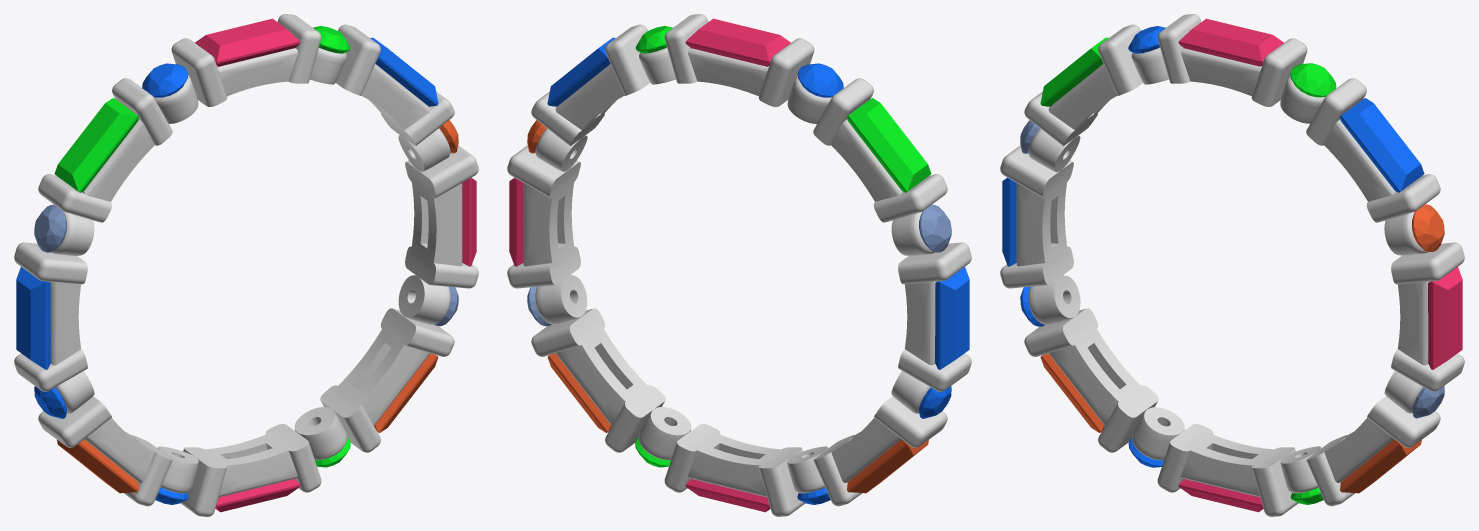
Rendered from AdamSpt_blender.glb.
3 views of the same model, side by side, from view 1: azimuth 30°, elevation 25°; view 2: azimuth 150°, elevation 25°; view 3: azimuth 330°, elevation 25° (orthographic).
Visible parts, largest first — view 1: Adam PT for 3d model, Adam ruby for 3d model, Adam emerald for 3d model.001, Adam sapphire for 3d model.001, Adam hessonite garnet for 3d model.002, Adam sapphire for 3d model, Adam aquamarine for 3d model.001, Adam green sapphire for 3d model.002, Adam hessonite garnet for 3d model.001, Adam green sapphire for 3d model.001, Adam emerald for 3d model.002; view 2: Adam PT for 3d model, Adam ruby for 3d model, Adam emerald for 3d model.001, Adam sapphire for 3d model.001, Adam hessonite garnet for 3d model.002, Adam sapphire for 3d model, Adam aquamarine for 3d model.001, Adam green sapphire for 3d model.002, Adam hessonite garnet for 3d model.001, Adam green sapphire for 3d model.001, Adam emerald for 3d model.002; view 3: Adam PT for 3d model, Adam ruby for 3d model, Adam sapphire for 3d model, Adam hessonite garnet for 3d model.001, Adam emerald for 3d model.001, Adam sapphire for 3d model.001, Adam hessonite garnet for 3d model, Adam emerald for 3d model.002, Adam hessonite garnet for 3d model.002, Adam aquamarine for 3d model, Adam green sapphire for 3d model.002.
Part boxes in pixels (x1,y1,x2,y2): Adam PT for 3d model: (14, 14, 478, 516); Adam ruby for 3d model: (195, 18, 476, 512); Adam emerald for 3d model.001: (54, 98, 138, 192); Adam sapphire for 3d model.001: (16, 267, 50, 369); Adam hessonite garnet for 3d model.002: (57, 439, 138, 493); Adam sapphire for 3d model: (370, 37, 438, 106); Adam aquamarine for 3d model.001: (34, 204, 66, 252); Adam green sapphire for 3d model.002: (142, 63, 188, 97); Adam hessonite garnet for 3d model.001: (374, 353, 438, 432); Adam green sapphire for 3d model.001: (34, 386, 66, 418); Adam emerald for 3d model.002: (313, 26, 350, 53); Adam PT for 3d model: (507, 14, 971, 516); Adam ruby for 3d model: (509, 18, 790, 512); Adam emerald for 3d model.001: (847, 98, 931, 192); Adam sapphire for 3d model.001: (935, 267, 969, 369); Adam hessonite garnet for 3d model.002: (847, 439, 928, 493); Adam sapphire for 3d model: (547, 37, 615, 106); Adam aquamarine for 3d model.001: (919, 204, 951, 252); Adam green sapphire for 3d model.002: (797, 63, 843, 97); Adam hessonite garnet for 3d model.001: (547, 353, 611, 432); Adam green sapphire for 3d model.001: (919, 386, 951, 418); Adam emerald for 3d model.002: (635, 26, 672, 53); Adam PT for 3d model: (1000, 14, 1464, 516); Adam ruby for 3d model: (1178, 18, 1462, 512); Adam sapphire for 3d model: (1340, 98, 1424, 192); Adam hessonite garnet for 3d model.001: (1340, 439, 1421, 493); Adam emerald for 3d model.001: (1040, 37, 1108, 106); Adam sapphire for 3d model.001: (1002, 177, 1016, 266); Adam hessonite garnet for 3d model: (1412, 204, 1444, 252); Adam emerald for 3d model.002: (1290, 63, 1336, 97); Adam hessonite garnet for 3d model.002: (1040, 353, 1104, 432); Adam aquamarine for 3d model: (1412, 386, 1444, 418); Adam green sapphire for 3d model.002: (1128, 26, 1165, 53).
Size of the model in its own units: 21.34 by 21.34 by 2.39.
